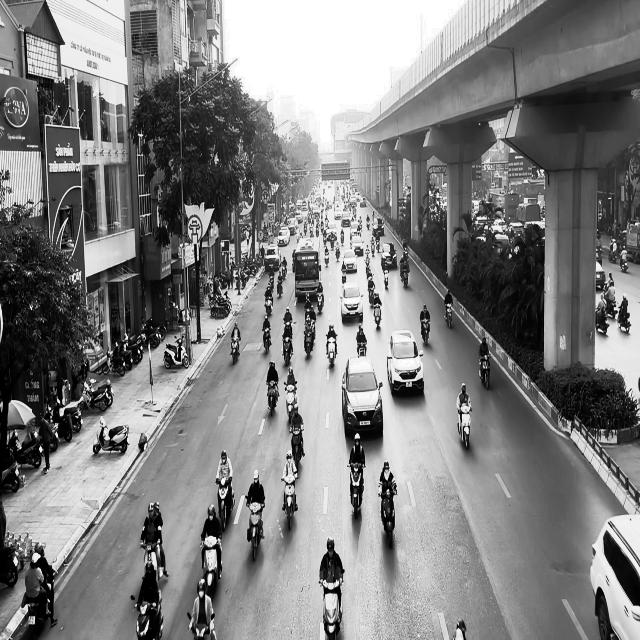car: (590, 514, 640, 640), (341, 354, 383, 437), (386, 329, 424, 395), (339, 280, 364, 323)
motorbike: (25, 566, 58, 638), (319, 568, 344, 640), (130, 591, 163, 639), (93, 416, 129, 455), (200, 537, 221, 600), (378, 485, 397, 548), (246, 502, 265, 562), (347, 462, 365, 518), (281, 472, 298, 530), (216, 477, 234, 530), (140, 538, 162, 580), (163, 336, 189, 368), (187, 612, 216, 640), (289, 422, 304, 472), (457, 402, 472, 449), (284, 382, 297, 423), (478, 354, 491, 389), (266, 380, 278, 416), (595, 305, 609, 334), (304, 322, 315, 358), (617, 305, 631, 333), (282, 334, 293, 366), (326, 336, 337, 366), (230, 335, 240, 364), (420, 317, 430, 346), (400, 260, 409, 288), (373, 302, 382, 328), (262, 328, 271, 353), (444, 302, 452, 328), (620, 254, 628, 272)
